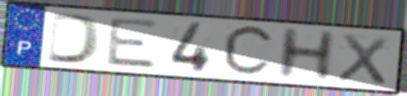4: (167, 21, 213, 75)
C: (220, 23, 278, 79)
D: (44, 11, 104, 66)
E: (104, 16, 161, 71)
H: (274, 26, 339, 81)
X: (334, 31, 391, 87)
